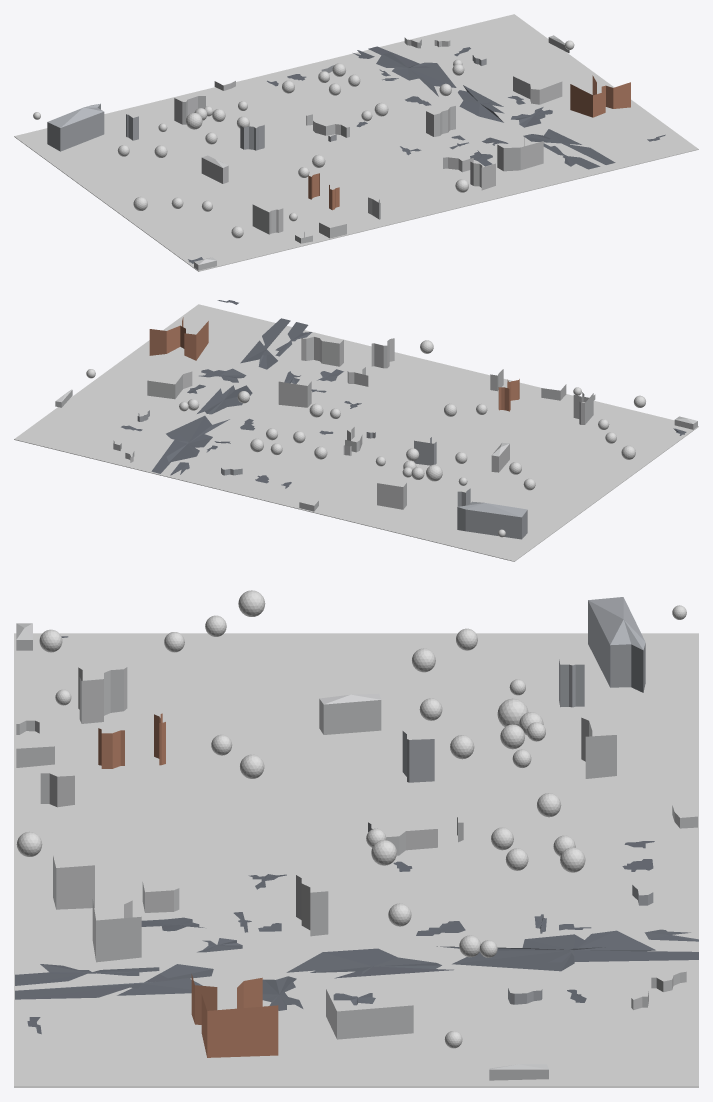
The picture shows the model from 3 angles, top to bottom: view 1: azimuth 30°, elevation 25°; view 2: azimuth 150°, elevation 25°; view 3: azimuth 270°, elevation 25°; orthographic projection. The views are drawn at different scales.
Visible parts, largest first — view 1: Ground_Base, Road_Corridors, B005, B017, B020, B013, B021, B016, B023, B012, B014, B006; view 2: Ground_Base, Road_Corridors, B005, B017, B020, B016, B013, B006, B023, B021, B012, B014; view 3: Ground_Base, Road_Corridors, B017, B005, B013, B014, B020, B021, B023, B006, B016, B012 (+7 smaller).
Part boxes in pixels (left/top/right/bottom): Ground_Base: left=14, top=14, right=698, bottom=271; Road_Corridors: left=188, top=46, right=665, bottom=263; B005: left=47, top=103, right=104, bottom=151; B017: left=570, top=75, right=630, bottom=117; B020: left=497, top=136, right=543, bottom=171; B013: left=513, top=76, right=562, bottom=104; B021: left=252, top=204, right=283, bottom=234; B016: left=426, top=106, right=455, bottom=136; B023: left=470, top=161, right=495, bottom=190; B012: left=240, top=125, right=264, bottom=150; B014: left=201, top=155, right=228, bottom=183; B006: left=174, top=96, right=205, bottom=124; Ground_Base: left=14, top=304, right=698, bottom=561; Road_Corridors: left=121, top=300, right=686, bottom=488; B005: left=457, top=501, right=527, bottom=539; B017: left=149, top=317, right=208, bottom=360; B020: left=301, top=337, right=343, bottom=366; B016: left=278, top=381, right=311, bottom=407; B013: left=147, top=371, right=192, bottom=399; B006: left=377, top=483, right=406, bottom=509; B023: left=371, top=338, right=394, bottom=368; B021: left=573, top=393, right=593, bottom=424; B012: left=414, top=437, right=436, bottom=465; B014: left=491, top=442, right=509, bottom=472; Ground_Base: left=14, top=633, right=698, bottom=1087; Road_Corridors: left=15, top=636, right=698, bottom=1034; B017: left=191, top=974, right=278, bottom=1057; B005: left=588, top=597, right=645, bottom=692; B013: left=326, top=989, right=413, bottom=1039; B014: left=319, top=693, right=381, bottom=734; B020: left=92, top=899, right=141, bottom=962; B021: left=78, top=667, right=127, bottom=723; B023: left=53, top=856, right=94, bottom=909; B006: left=581, top=717, right=616, bottom=778; B016: left=296, top=875, right=328, bottom=936; B012: left=402, top=731, right=434, bottom=782.
Bounding box in the file's own units: 386 × 24.66 × 247.
